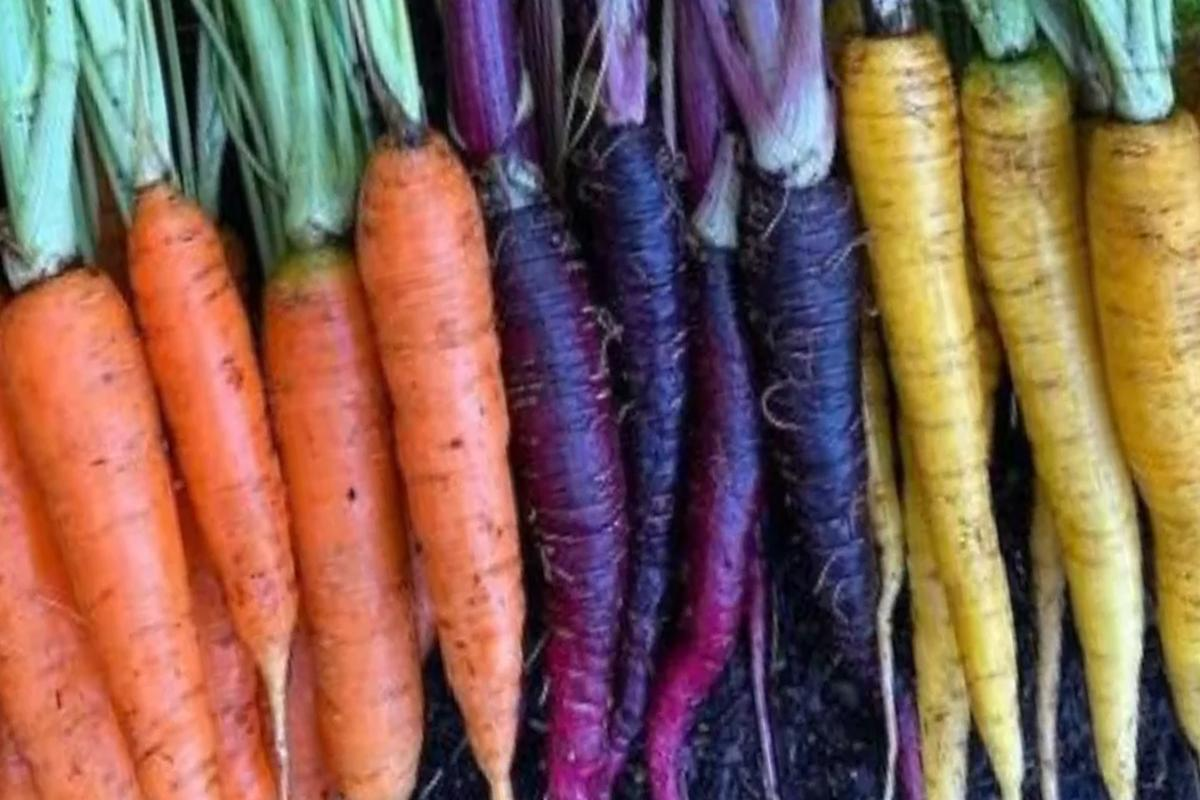carrot: (122, 113, 523, 800), (0, 224, 315, 800)
